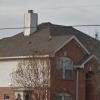Chimney: (20, 6, 44, 37)
